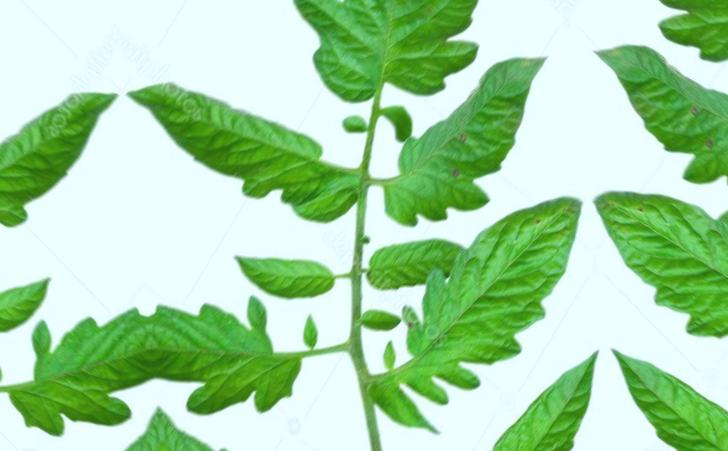Tomato leaf: (350, 179, 612, 431), (124, 46, 354, 225), (351, 46, 555, 241), (272, 0, 501, 120), (393, 345, 627, 451), (147, 295, 315, 412), (154, 356, 335, 451)
